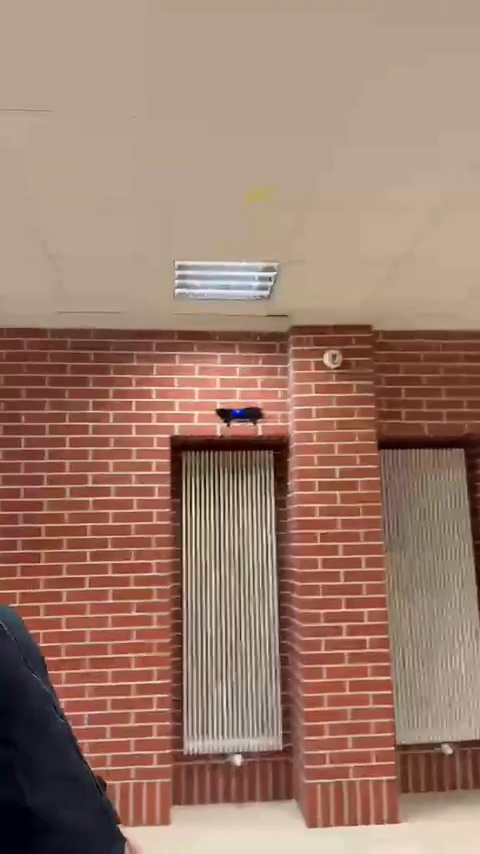drone: (213, 406, 265, 424)
